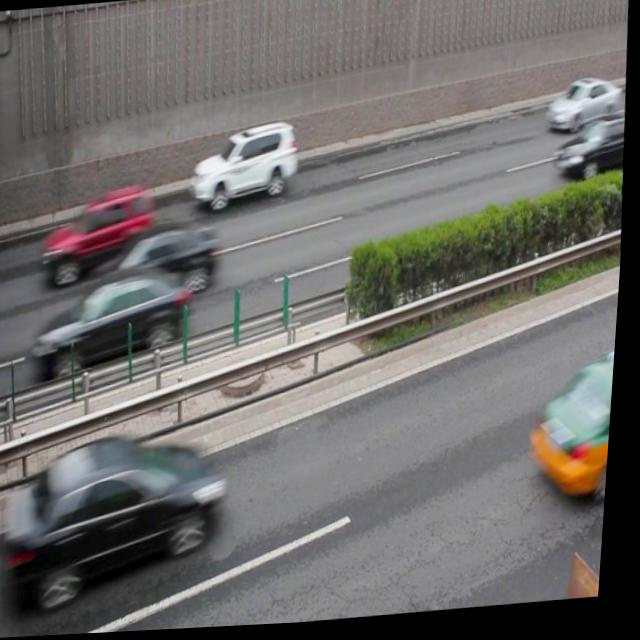car: (25, 430, 230, 604), (35, 271, 198, 380), (528, 359, 620, 511), (87, 221, 224, 307), (40, 188, 161, 285), (192, 122, 301, 212), (550, 126, 629, 189), (544, 78, 622, 141)
